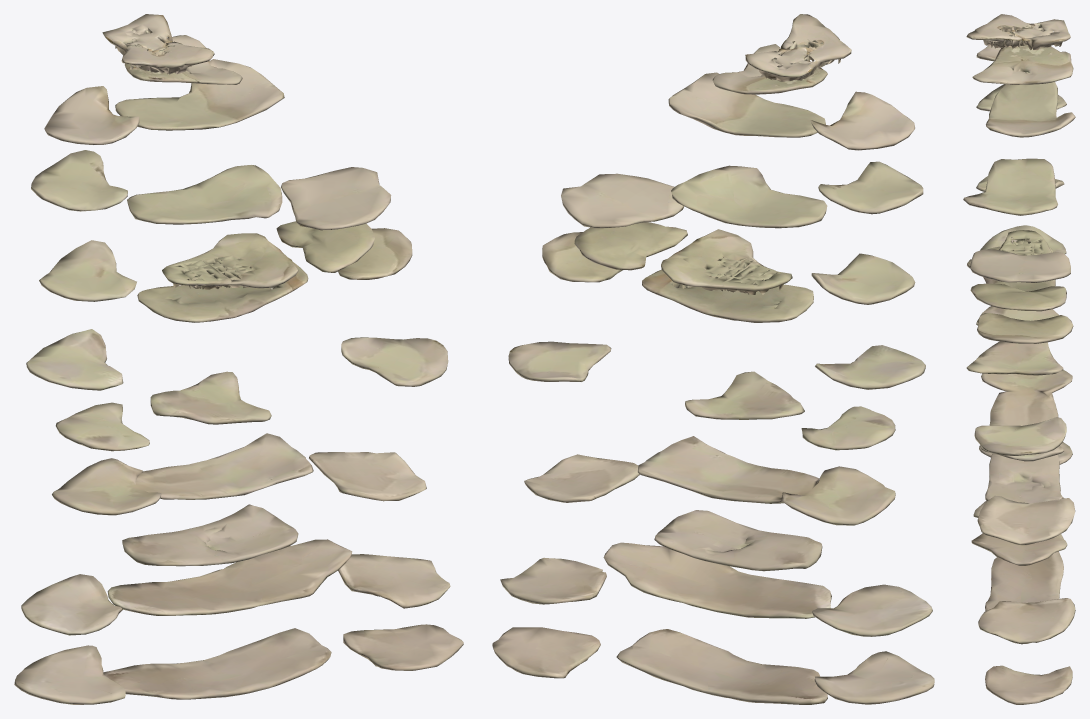
File: Floating_Shelves_Form.glb
3 views of the same model, side by side, from view 1: azimuth 30°, elevation 25°; view 2: azimuth 150°, elevation 25°; view 3: azimuth 270°, elevation 25° (orthographic). The views are drawn at different scales.
Parts seen in each view (by area): view 1: Floating_Shelves_Form; view 2: Floating_Shelves_Form; view 3: Floating_Shelves_Form.
Boxes of the visible parts, box(x1,y1,x2,y2) form: Floating_Shelves_Form: box(14, 14, 463, 704); Floating_Shelves_Form: box(492, 14, 934, 704); Floating_Shelves_Form: box(963, 14, 1075, 704).
Bounding box in the file's own units: 1.33 × 1.99 × 0.3607.
1 material, 1 textured.
